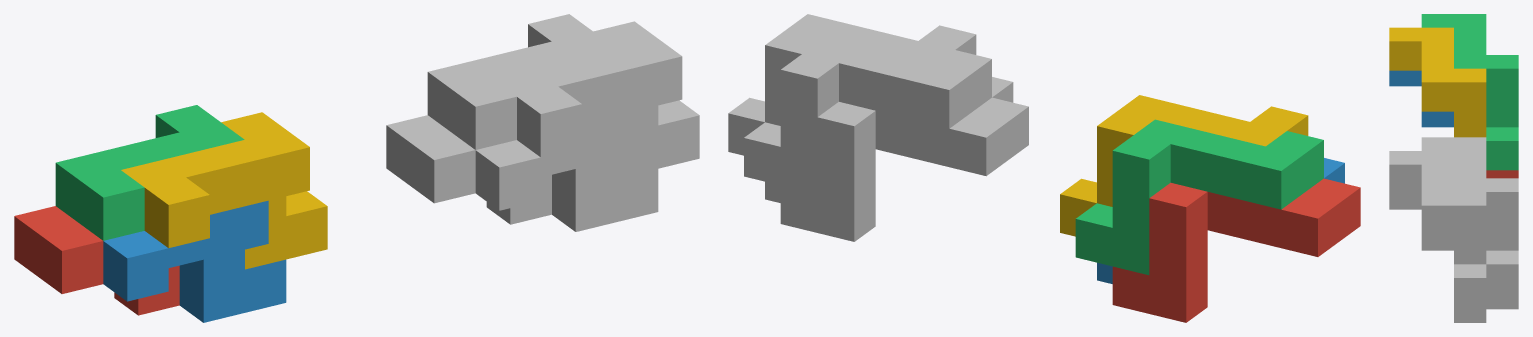
The model's file is tiling.obj.
3 views of the same model, side by side, from view 1: azimuth 30°, elevation 25°; view 2: azimuth 150°, elevation 25°; view 3: azimuth 270°, elevation 25° (orthographic). The views are drawn at different scales.
Parts seen in each view (by area): view 1: copy_1_domain_4, copy_1_domain_8, copy_1_domain_2, copy_1_domain_6, copy_1_domain_3, copy_1_domain_7, copy_1_domain_1, copy_1_domain_5; view 2: copy_1_domain_3, copy_1_domain_7, copy_1_domain_5, copy_1_domain_1, copy_1_domain_4, copy_1_domain_8, copy_1_domain_6, copy_1_domain_2; view 3: copy_1_domain_8, copy_1_domain_4, copy_1_domain_3, copy_1_domain_7, copy_1_domain_6, copy_1_domain_2, copy_1_domain_5, copy_1_domain_1.
Part boxes in pixels (x1,y1,x2,y2): copy_1_domain_4: [121, 112, 327, 269]; copy_1_domain_8: [493, 21, 699, 178]; copy_1_domain_2: [103, 200, 286, 322]; copy_1_domain_6: [475, 109, 658, 231]; copy_1_domain_3: [55, 105, 244, 240]; copy_1_domain_7: [427, 14, 616, 149]; copy_1_domain_1: [14, 206, 179, 315]; copy_1_domain_5: [386, 115, 551, 224]; copy_1_domain_3: [1075, 119, 1323, 275]; copy_1_domain_7: [744, 38, 991, 194]; copy_1_domain_5: [780, 97, 1028, 241]; copy_1_domain_1: [1112, 178, 1360, 322]; copy_1_domain_4: [1060, 95, 1308, 236]; copy_1_domain_8: [728, 14, 976, 155]; copy_1_domain_6: [765, 77, 1013, 202]; copy_1_domain_2: [1097, 158, 1344, 283]; copy_1_domain_8: [1389, 151, 1486, 307]; copy_1_domain_4: [1389, 27, 1486, 137]; copy_1_domain_3: [1421, 14, 1518, 170]; copy_1_domain_7: [1421, 137, 1518, 293]; copy_1_domain_6: [1389, 194, 1486, 322]; copy_1_domain_2: [1389, 70, 1453, 127]; copy_1_domain_5: [1486, 293, 1518, 309]; copy_1_domain_1: [1486, 170, 1518, 178].
Bounding box in the file's own units: 16 × 4 × 4.
